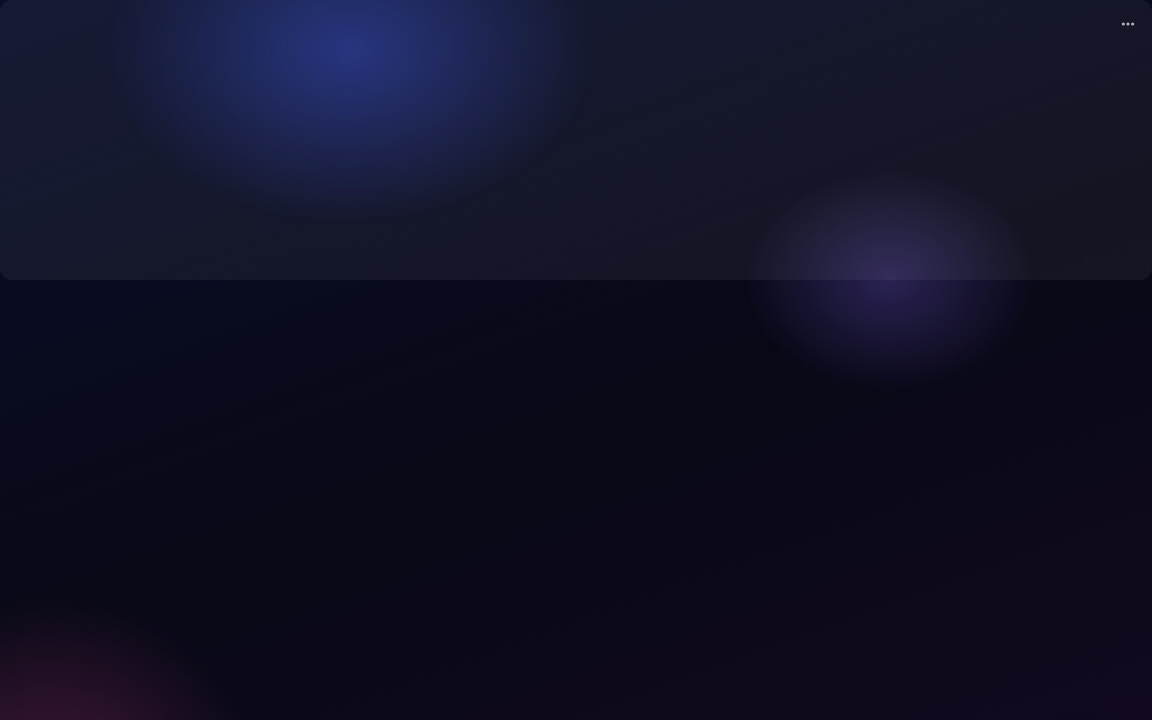
Test: WebViewWidget peek › traps Tab inside the card and returns focus to the tile on dismiss
Right-click the element with test id "day-webview": (576, 140) [0, 0, 1151, 280]
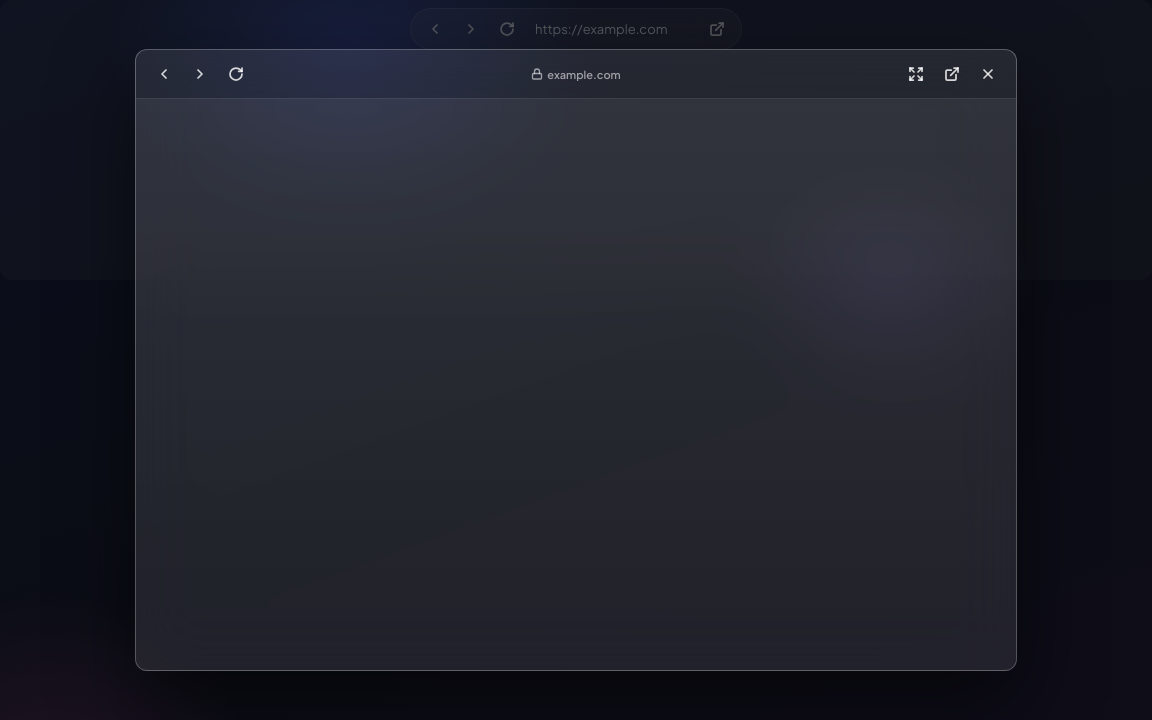
Press Tab
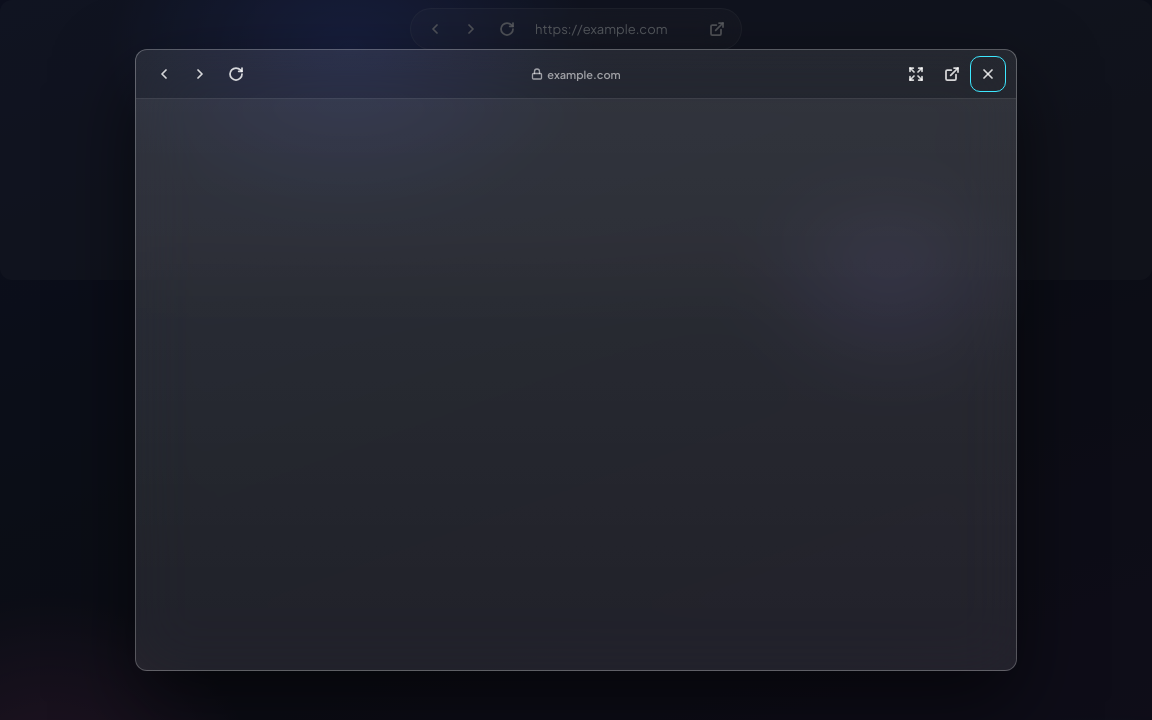
Press Tab
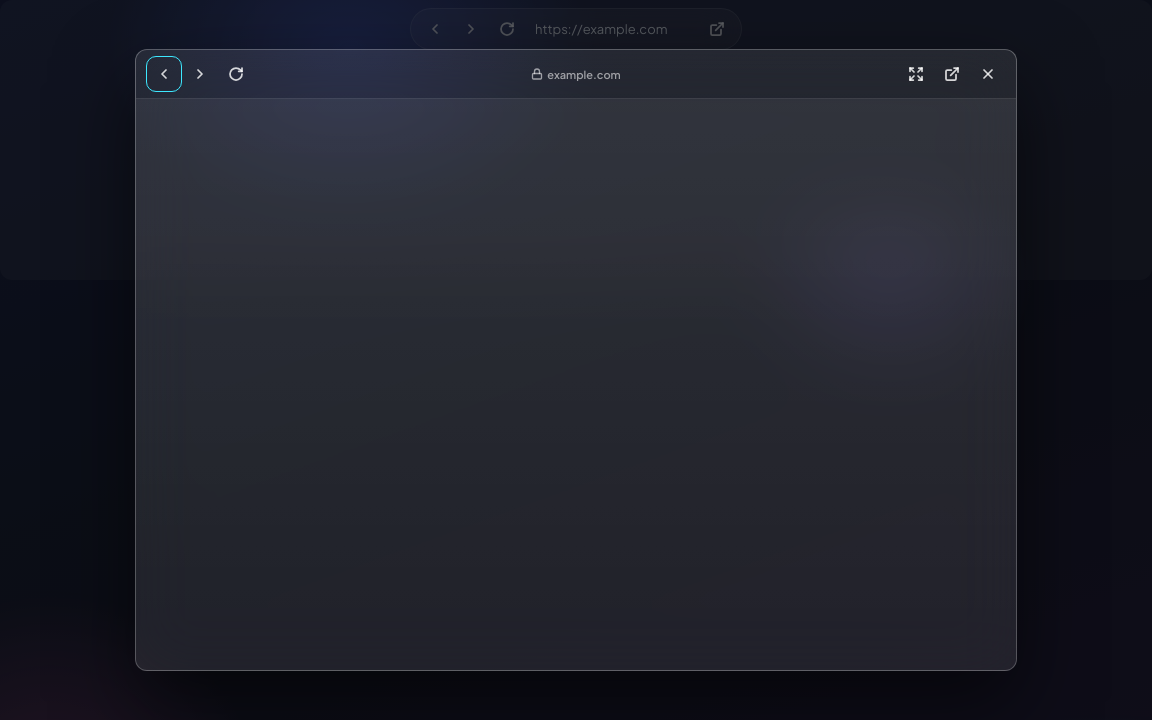
Press Escape
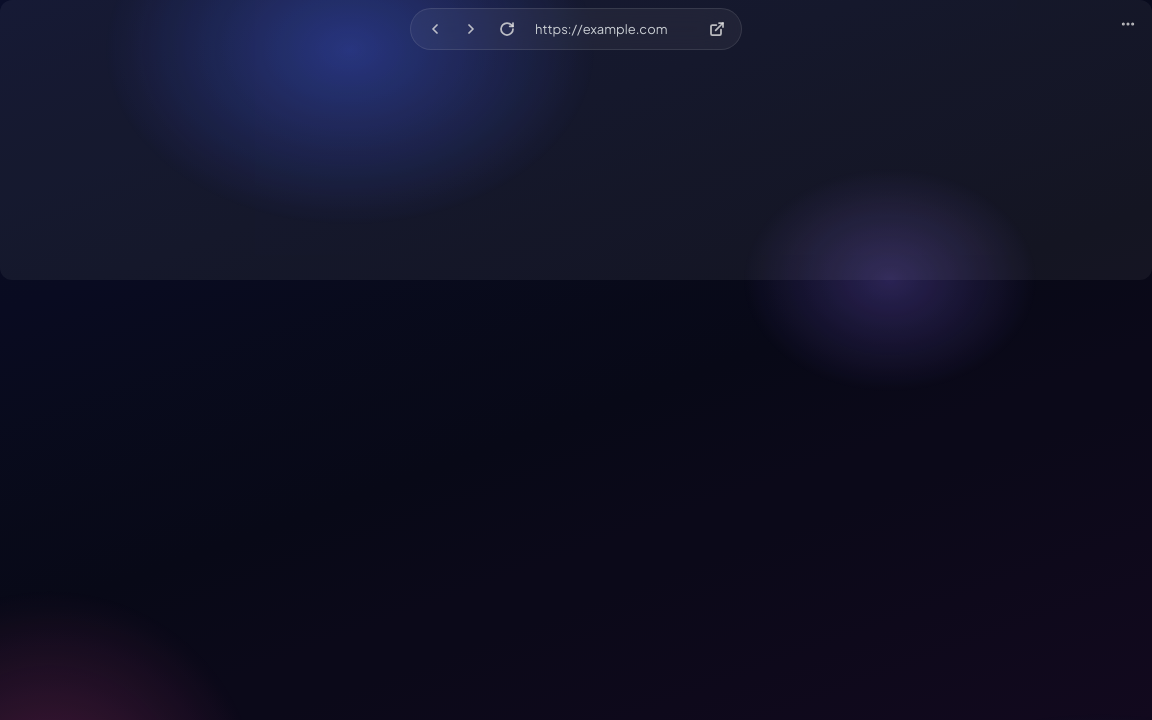
Expected: the element with test id "web-peek" is gone
